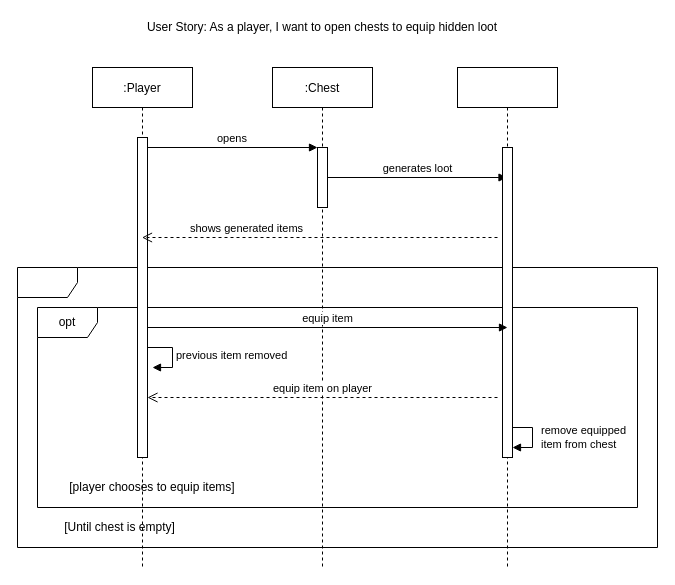
This 675x585 diagram has some shape labels left out. The box of each missing label's shape, as (x1, y1, x2, y2) in pixels:
:Loot: (456, 66, 558, 568)
loop: (16, 266, 658, 548)
